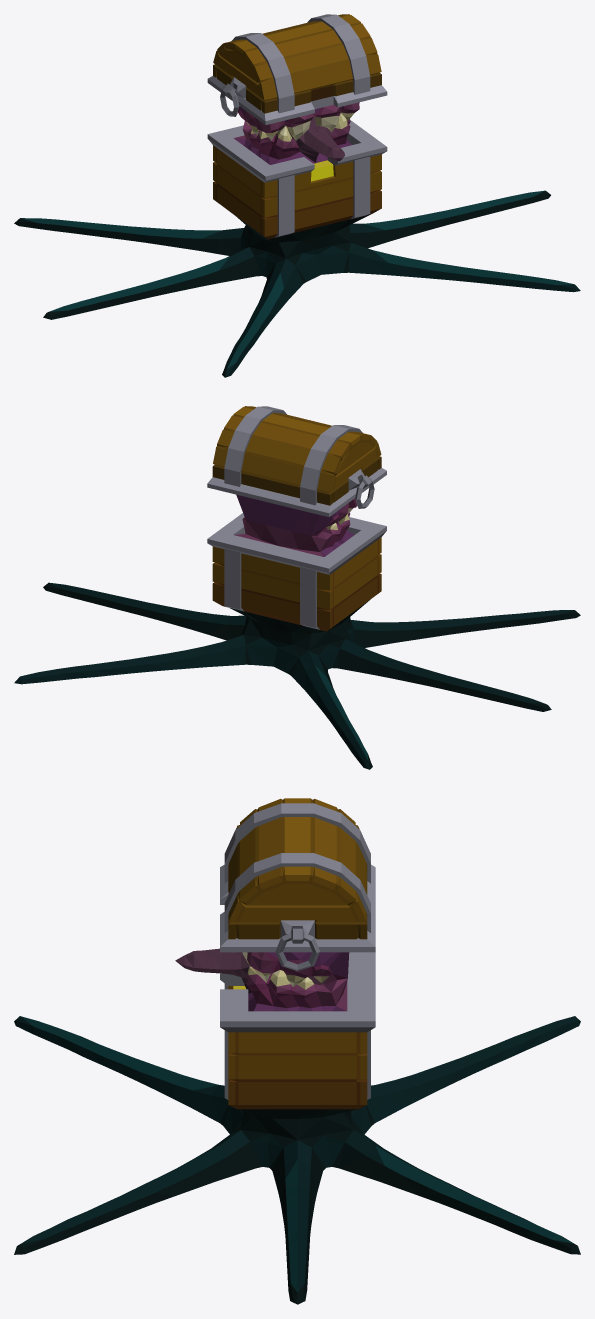
Rendered from mimic.gltf.
The picture shows the model from 3 angles, top to bottom: view 1: azimuth 30°, elevation 25°; view 2: azimuth 150°, elevation 25°; view 3: azimuth 270°, elevation 25°; orthographic projection. The views are drawn at different scales.
Size of the model in its own units: 1337 by 570 by 961.
1 material, 1 textured.
